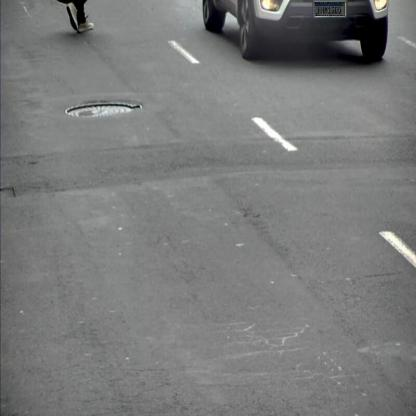PlacaM: (314, 2, 344, 16)
